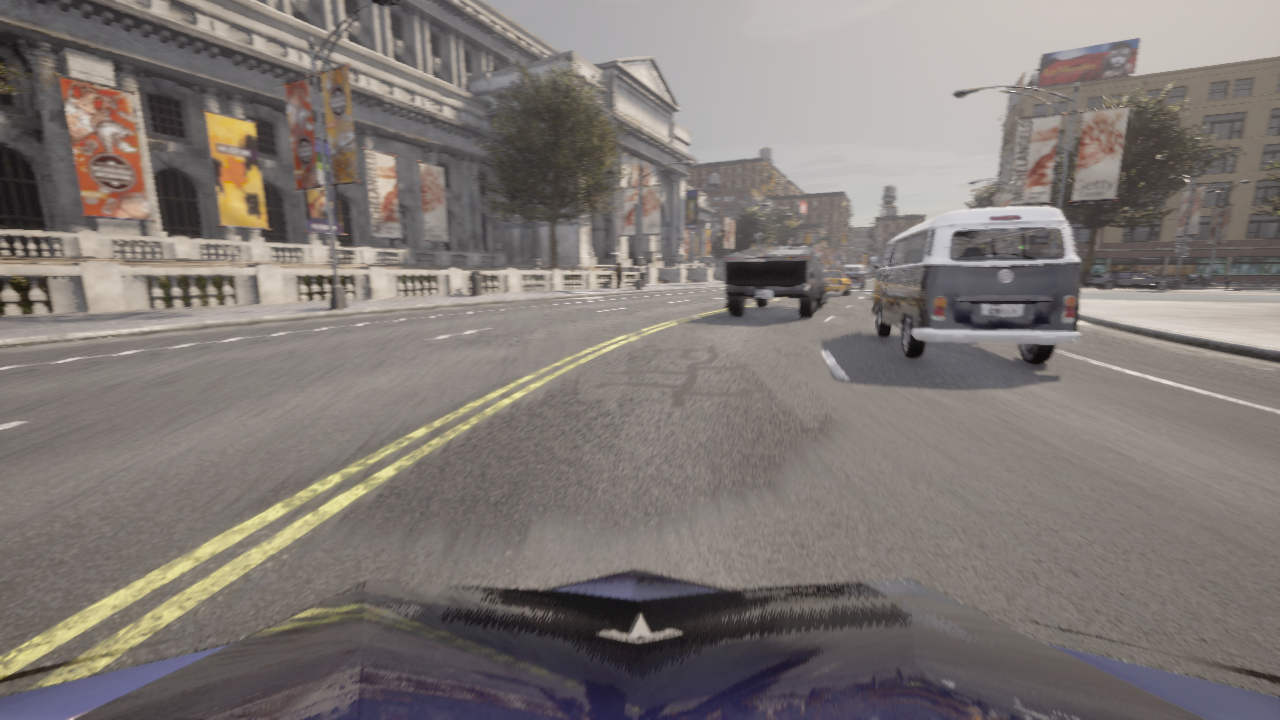cyclist: (0, 569, 1279, 719), (870, 206, 1080, 364), (725, 245, 828, 318), (1082, 271, 1173, 289), (824, 267, 851, 295), (843, 264, 869, 288), (867, 274, 875, 277)
pedestrian: (616, 263, 622, 287)
